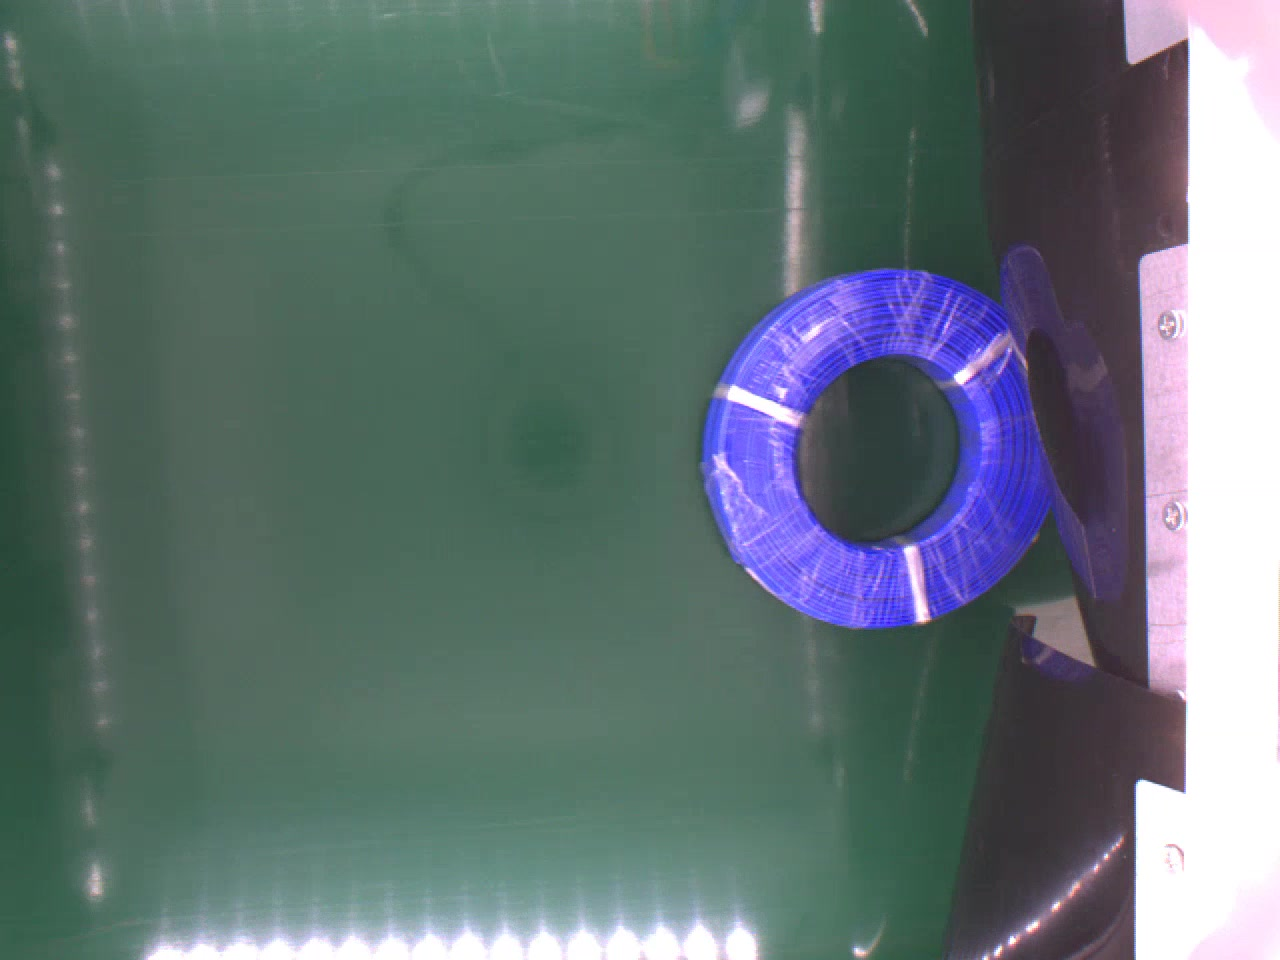blue: (699, 263, 1055, 632)
